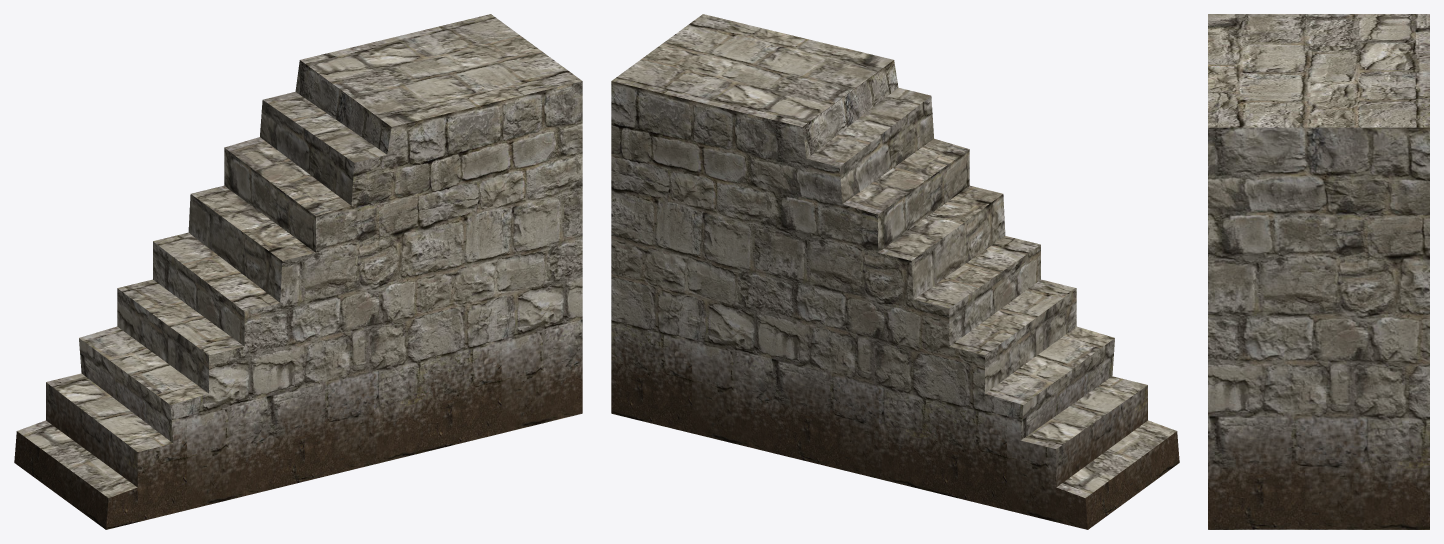
File: poorlords_wall_stairs_bottom.FBX
The picture shows the model from 3 angles, left to right: view 1: azimuth 30°, elevation 25°; view 2: azimuth 150°, elevation 25°; view 3: azimuth 270°, elevation 25°; orthographic projection. The views are drawn at different scales.
Visible parts, largest first — view 1: Poorlords_wall_stairs_bottom_; view 2: Poorlords_wall_stairs_bottom_; view 3: Poorlords_wall_stairs_bottom_.
Boxes of the visible parts, bbox=[...] form: Poorlords_wall_stairs_bottom_: bbox=[14, 14, 582, 529]; Poorlords_wall_stairs_bottom_: bbox=[611, 14, 1179, 529]; Poorlords_wall_stairs_bottom_: bbox=[1208, 14, 1429, 529].
Bounding box in the file's own units: 384 × 128 × 257.
